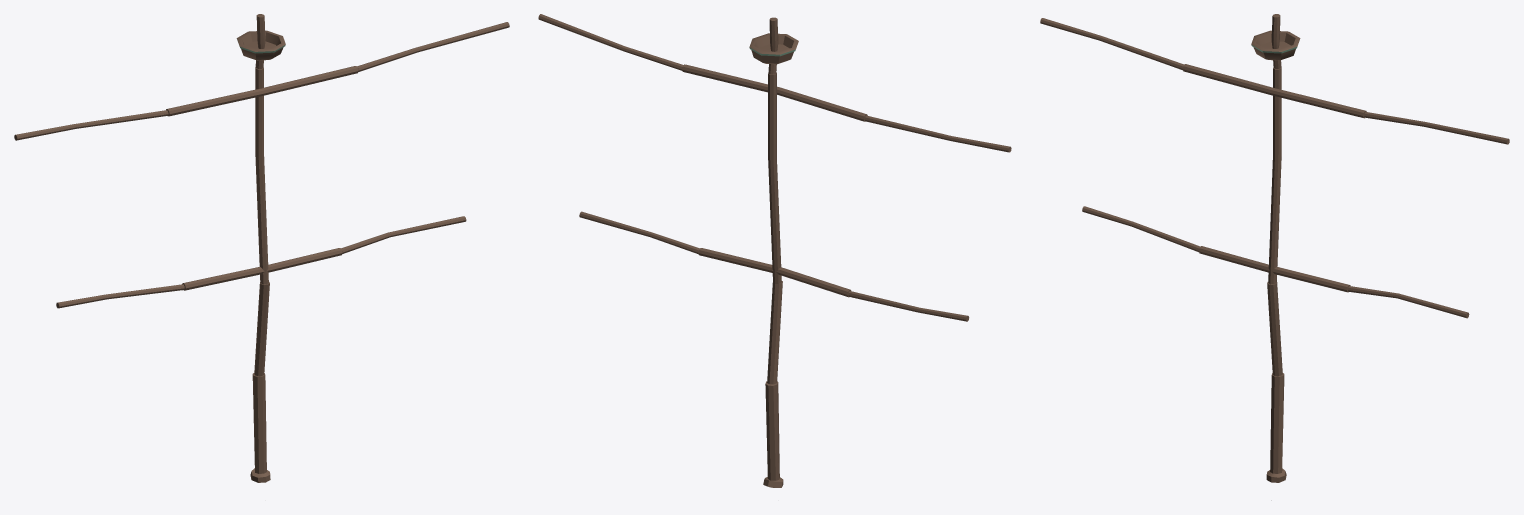
Rendered from shipWreck2.fbx.
3 renders of one model, left to right at view 1: azimuth 30°, elevation 25°; view 2: azimuth 150°, elevation 25°; view 3: azimuth 330°, elevation 25°, orthographic.
Parts seen in each view (by area): view 1: shipWreck2; view 2: shipWreck2; view 3: shipWreck2.
Part boxes in pixels (x1=…): shipWreck2: x1=14, y1=14, x2=509, y2=482; shipWreck2: x1=538, y1=14, x2=1011, y2=487; shipWreck2: x1=1040, y1=14, x2=1509, y2=500.
Bounding box in the file's own units: 1601 × 1538 × 153.
